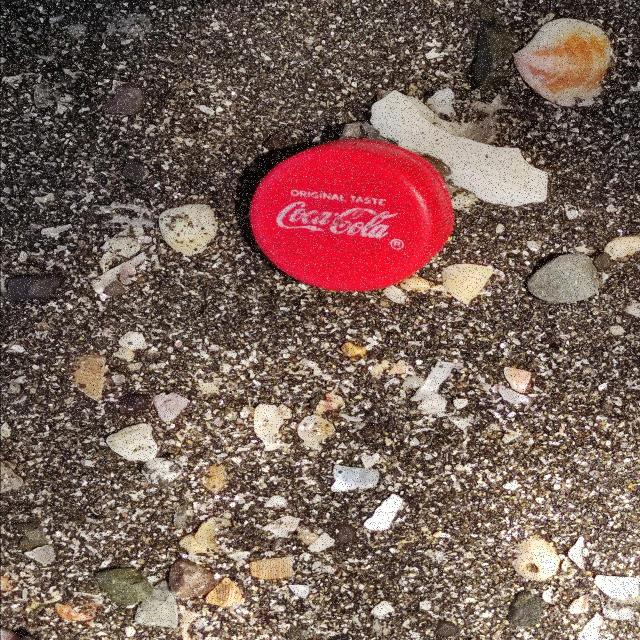plastic_waste: (253, 138, 455, 292)
